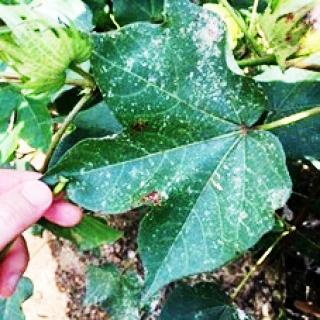grey mildew: (82, 10, 300, 260)
